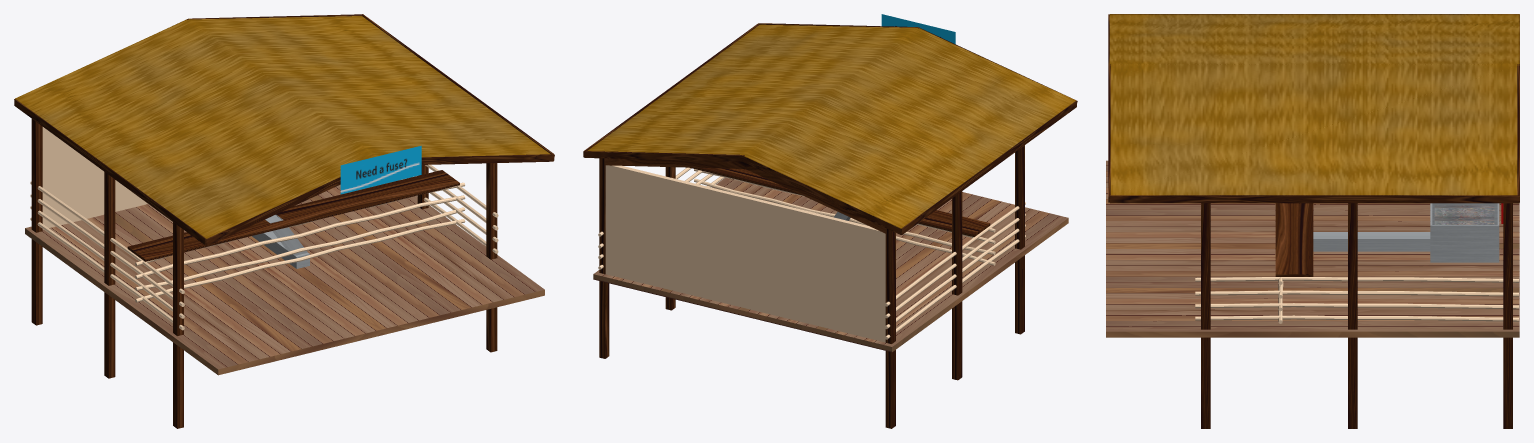
File: Fuse_Hut.fbx
3 views of the same model, side by side, from view 1: azimuth 30°, elevation 25°; view 2: azimuth 150°, elevation 25°; view 3: azimuth 270°, elevation 25° (orthographic). The views are drawn at different scales.
Visible parts, largest first — view 1: Fuse_Hut1, Grinder; view 2: Fuse_Hut1; view 3: Fuse_Hut1, Grinder, Grinder_Wheel1, Grinder_Wheel.
Boxes of the visible parts, x1,y1,x2,y2 form: Fuse_Hut1: (14, 14, 554, 428); Grinder: (252, 214, 309, 268); Fuse_Hut1: (583, 14, 1077, 428); Fuse_Hut1: (1106, 14, 1519, 428); Grinder: (1313, 203, 1499, 262); Grinder_Wheel1: (1434, 205, 1494, 218); Grinder_Wheel: (1434, 218, 1494, 224).
Bounding box in the file's own units: 6.26 × 4.57 × 6.
Materials: 10 (10 with a texture image).
